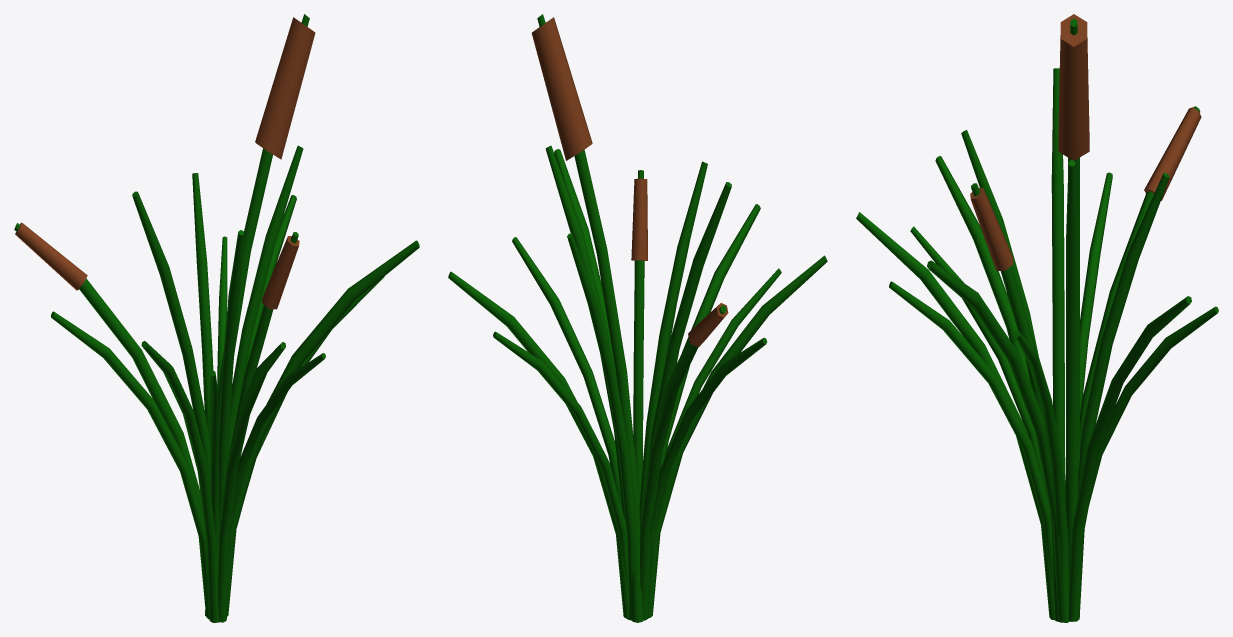
File: sazlik.FBX
The picture shows the model from 3 angles, left to right: view 1: azimuth 30°, elevation 25°; view 2: azimuth 150°, elevation 25°; view 3: azimuth 270°, elevation 25°; orthographic projection. The views are drawn at different scales.
Parts seen in each view (by area): view 1: Object001, Cylinder002, Cylinder009, Cylinder011, Cylinder014, Cylinder001, Cylinder007, Cylinder008, Cylinder010, Cylinder004, Cylinder016, Cylinder015 (+7 smaller); view 2: Cylinder016, Object001, Cylinder004, Cylinder008, Cylinder010, Cylinder011, Cylinder005, Cylinder003, Cylinder006, Cylinder007, Cylinder009, Cylinder013 (+6 smaller); view 3: Cylinder005, Cylinder002, Cylinder001, Cylinder007, Object001, Cylinder004, Cylinder015, Cylinder014, Cylinder003, Cylinder011, Cylinder009, Cylinder006 (+7 smaller).
Part boxes in pixels (x1,y1,x2,y2): Object001: [255, 17, 315, 159]; Cylinder002: [227, 240, 419, 616]; Cylinder009: [51, 311, 208, 601]; Cylinder011: [141, 341, 218, 622]; Cylinder014: [218, 342, 285, 622]; Cylinder001: [228, 145, 303, 459]; Cylinder007: [132, 191, 210, 486]; Cylinder008: [14, 223, 209, 619]; Cylinder010: [218, 230, 244, 529]; Cylinder004: [192, 173, 213, 444]; Cylinder016: [205, 14, 309, 615]; Cylinder015: [229, 353, 325, 547]; Cylinder016: [537, 14, 642, 622]; Object001: [531, 17, 592, 160]; Cylinder004: [567, 233, 634, 619]; Cylinder008: [639, 305, 726, 620]; Cylinder010: [639, 161, 707, 526]; Cylinder011: [648, 255, 827, 617]; Cylinder005: [448, 271, 629, 618]; Cylinder003: [512, 237, 622, 508]; Cylinder006: [493, 331, 628, 595]; Cylinder007: [645, 182, 731, 486]; Cylinder009: [647, 338, 767, 599]; Cylinder013: [633, 170, 644, 507]; Cylinder005: [1069, 296, 1191, 621]; Cylinder002: [927, 260, 1069, 622]; Cylinder001: [1066, 160, 1077, 621]; Cylinder007: [1051, 68, 1065, 497]; Object001: [1058, 14, 1089, 160]; Cylinder004: [1078, 173, 1169, 496]; Cylinder015: [889, 281, 1053, 592]; Cylinder014: [856, 212, 1055, 620]; Cylinder003: [1014, 330, 1068, 613]; Cylinder011: [935, 156, 1029, 380]; Cylinder009: [1065, 172, 1112, 504]; Cylinder006: [1089, 306, 1218, 505].
Size of the model in its own units: 26.49 by 50.12 by 25.37.
